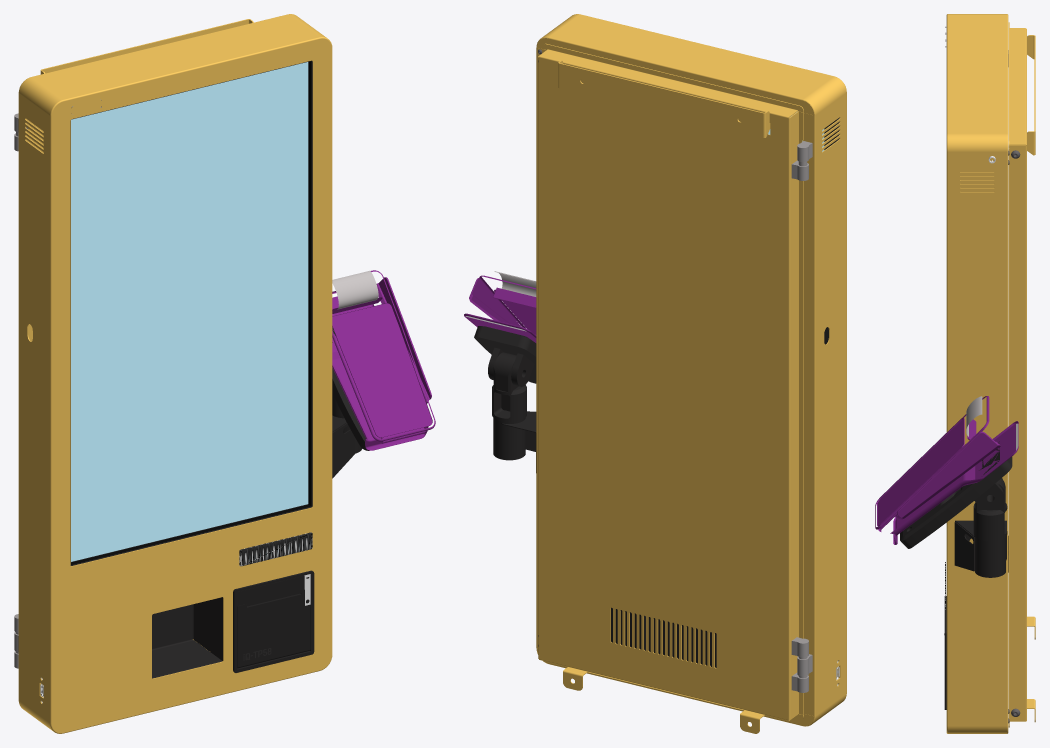
Rendered from kiosk.fbx.
The picture shows the model from 3 angles, left to right: view 1: azimuth 30°, elevation 25°; view 2: azimuth 150°, elevation 25°; view 3: azimuth 270°, elevation 25°; orthographic projection. The views are drawn at different scales.
Visible parts, largest first — view 1: Object_8.001, Object_36, Object_15, Object_4, Object_32, Object_23, Object_26, Object_35, Object_3, Object_11; view 2: Object_35, Object_36, Object_32, Object_15, Object_27, Object_4; view 3: Object_36, Object_35, Object_15, Object_32, Object_11, Object_4.
Part boxes in pixels (x1,y1,x2,y2): Object_8.001: (71, 62, 308, 561); Object_36: (18, 14, 332, 733); Object_15: (332, 270, 435, 450); Object_4: (215, 570, 314, 672); Object_32: (152, 328, 369, 678); Object_23: (70, 60, 312, 565); Object_26: (71, 61, 311, 564); Object_35: (31, 19, 253, 694); Object_3: (239, 532, 312, 566); Object_11: (332, 270, 378, 309); Object_35: (537, 43, 803, 733); Object_36: (536, 14, 846, 726); Object_32: (474, 326, 716, 667); Object_15: (464, 275, 536, 342); Object_27: (791, 141, 812, 692); Object_4: (611, 607, 645, 650); Object_36: (946, 14, 1008, 733); Object_35: (1008, 22, 1035, 727); Object_15: (875, 396, 1018, 544); Object_32: (900, 441, 1012, 577); Object_11: (966, 396, 982, 436); Object_4: (944, 596, 946, 709).
Bounding box in the file's own units: 88.46 × 152 × 36.56.
25 materials, 1 textured.
